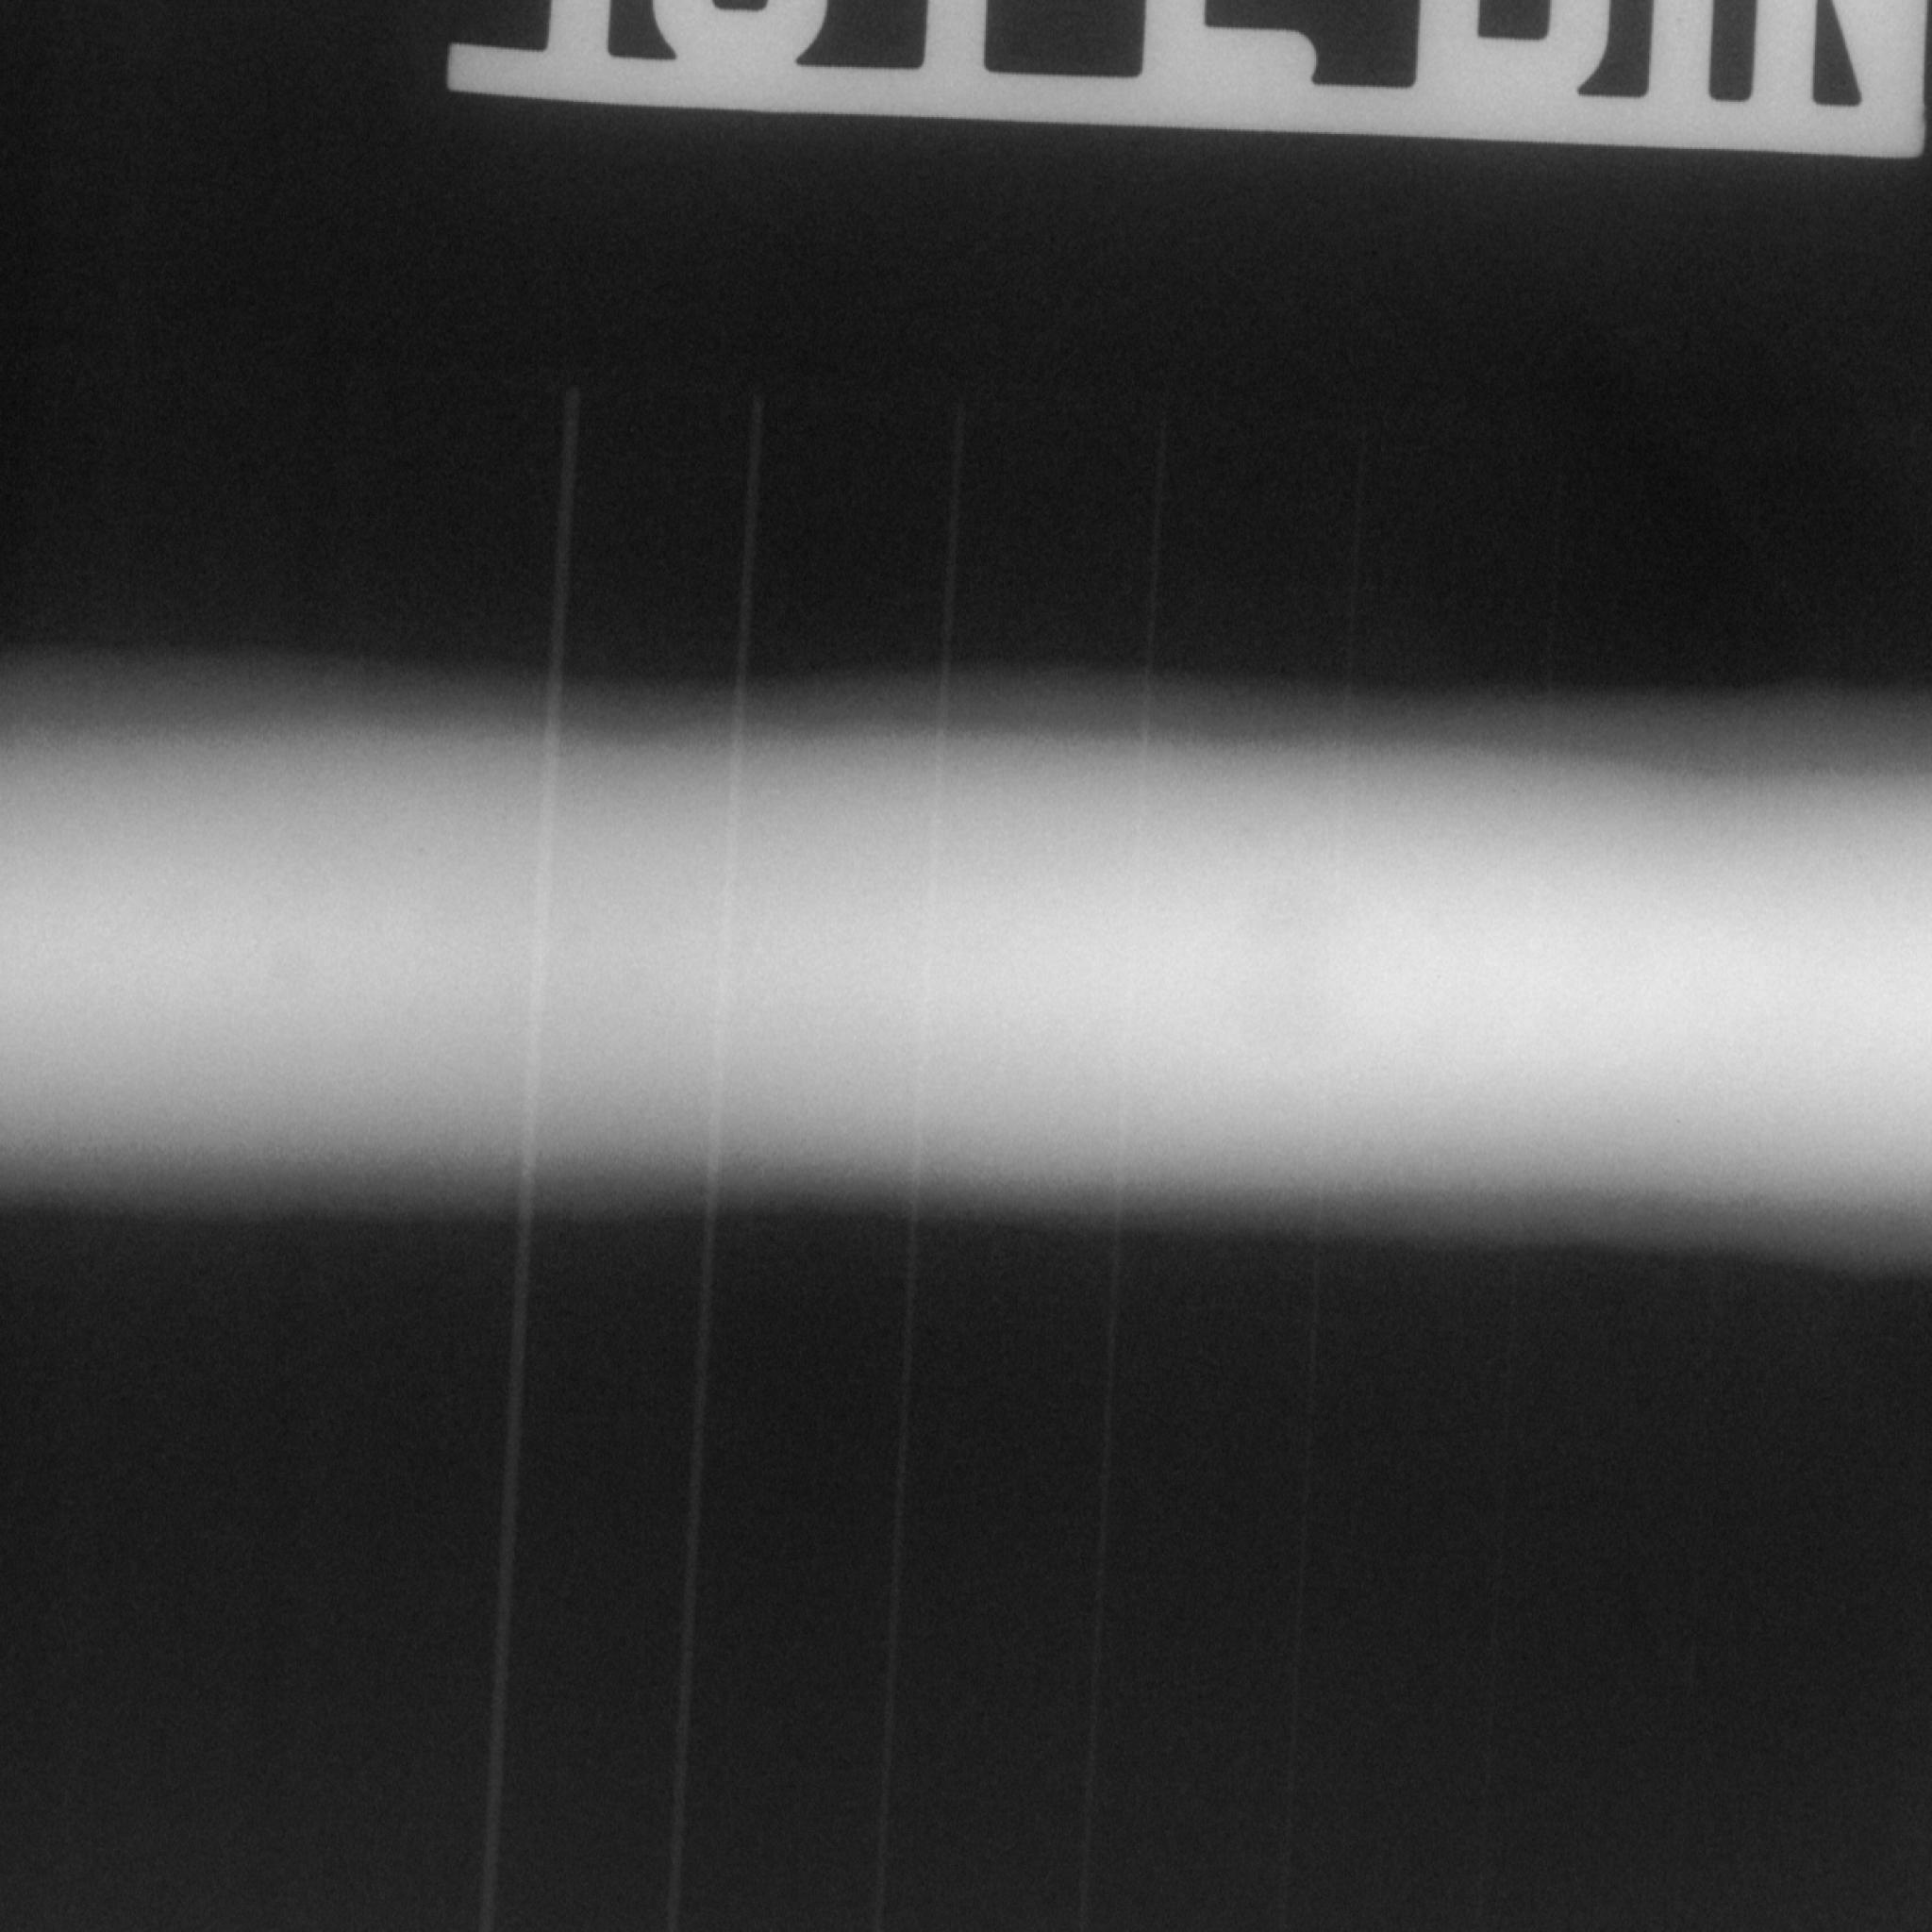FF: (1187, 855, 1415, 1063), (248, 929, 347, 1014)
